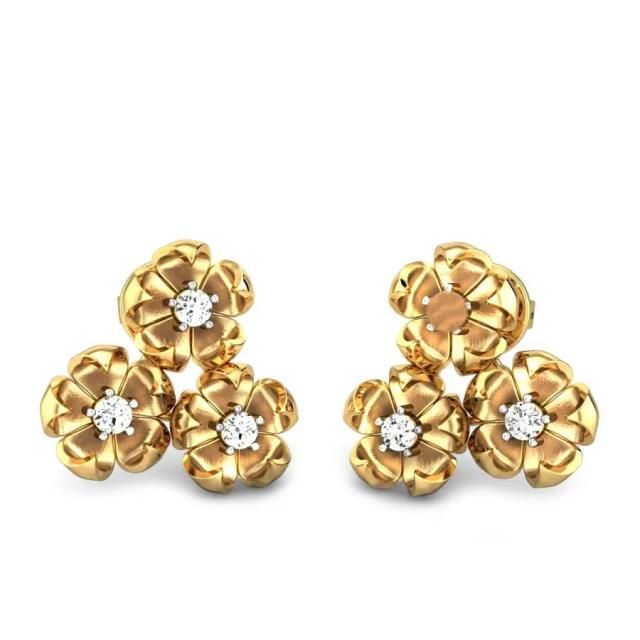missing gem: (427, 291, 466, 330)
